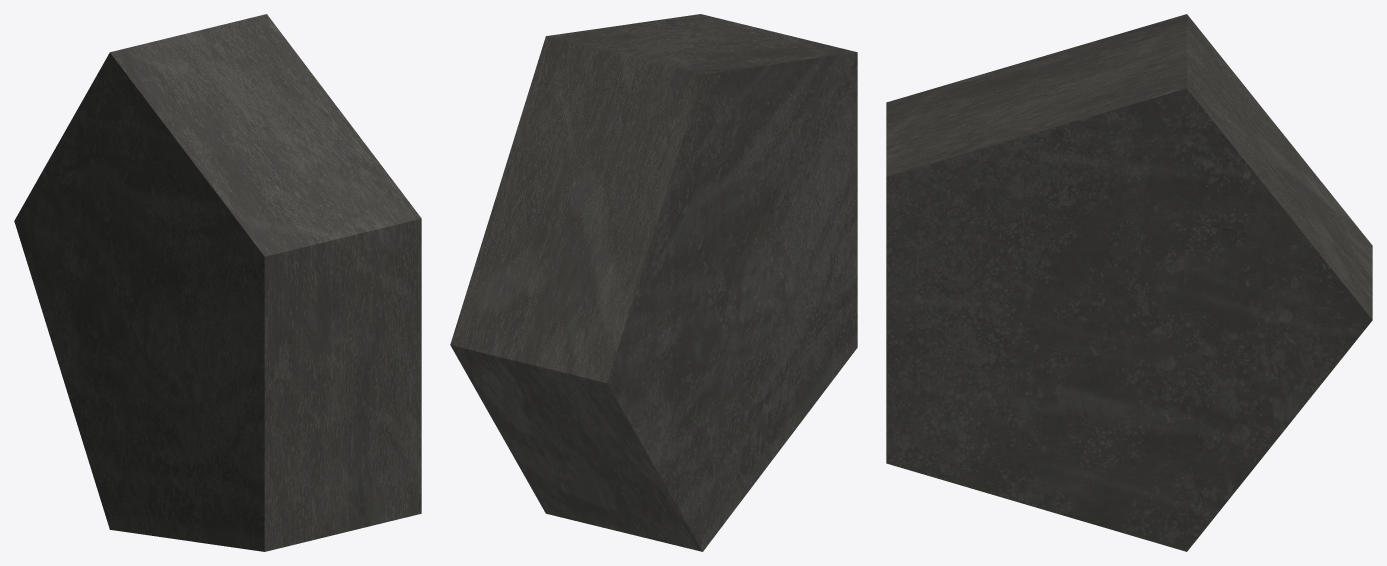
Rendered from Bolt.fbx.
3 views of the same model, side by side, from view 1: azimuth 30°, elevation 25°; view 2: azimuth 150°, elevation 25°; view 3: azimuth 270°, elevation 25° (orthographic). The views are drawn at different scales.
Visible parts, largest first — view 1: Pipe_6.001; view 2: Pipe_6.001; view 3: Pipe_6.001.
Part boxes in pixels (x1,y1,x2,y2): Pipe_6.001: (14,14,421,551); Pipe_6.001: (450,14,857,551); Pipe_6.001: (886,14,1372,551).
Size of the model in its own units: 1.1 by 3.2 by 3.04.
1 material, 1 textured.
